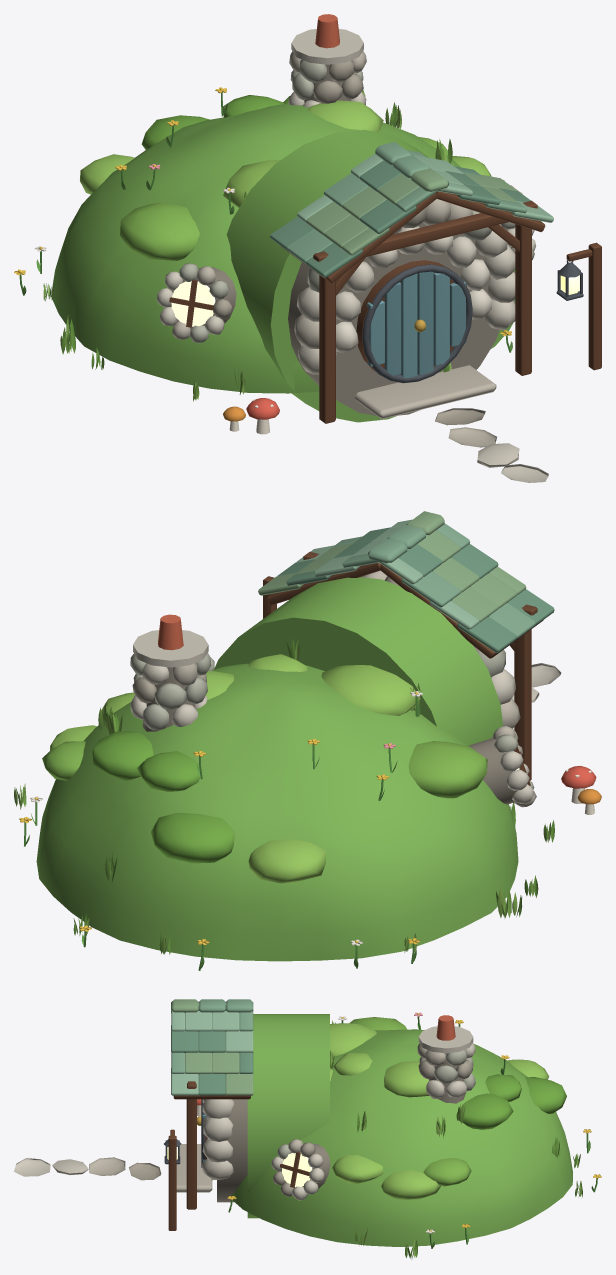
File: burrow.glb
The picture shows the model from 3 angles, top to bottom: view 1: azimuth 30°, elevation 25°; view 2: azimuth 150°, elevation 25°; view 3: azimuth 270°, elevation 25°; orthographic projection. The views are drawn at different scales.
Visible parts, largest first — view 1: Burrow; view 2: Burrow; view 3: Burrow.
Boxes of the visible parts, left/top/right/bottom form: Burrow: left=14, top=14, right=601, bottom=482; Burrow: left=14, top=511, right=601, bottom=970; Burrow: left=14, top=999, right=601, bottom=1258.
Bounding box in the file's own units: 6.03 × 3.5 × 8.6.
